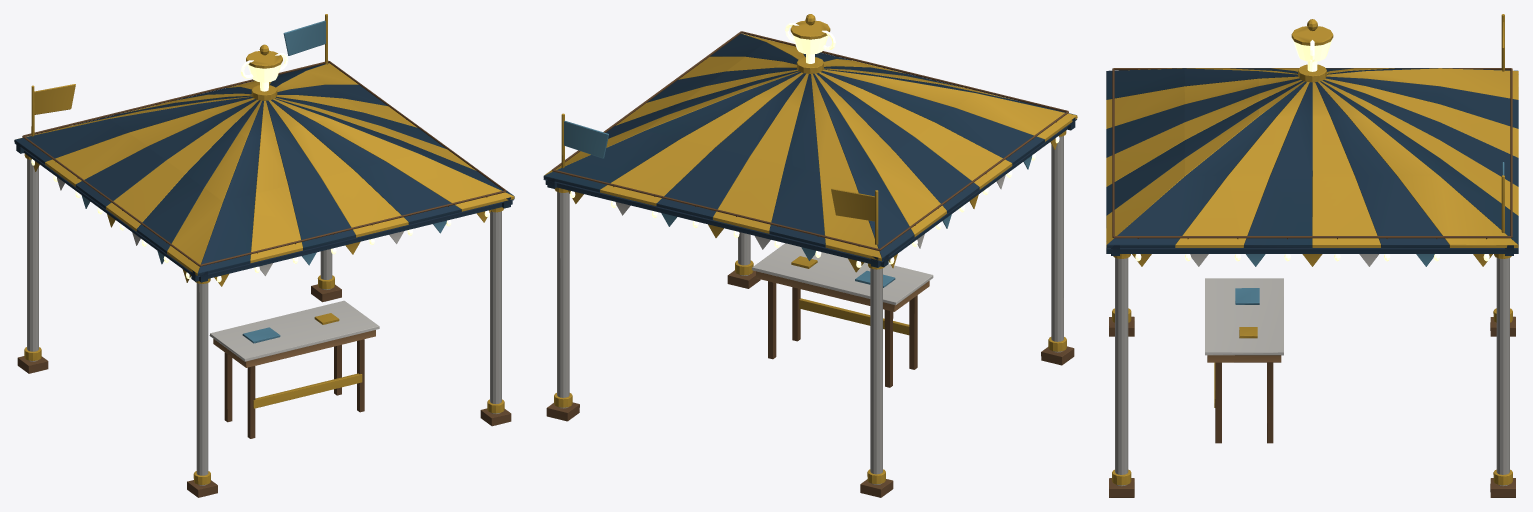
The model's file is contest_tent.glb.
3 views of the same model, side by side, from view 1: azimuth 30°, elevation 25°; view 2: azimuth 150°, elevation 25°; view 3: azimuth 270°, elevation 25° (orthographic). The views are drawn at different scales.
Parts seen in each view (by area): view 1: structure, flag_R_cloth, flag_L_cloth, canopy_liner; view 2: structure, flag_R_cloth, flag_L_cloth, canopy_liner; view 3: structure, canopy_liner.
Part boxes in pixels (box(x1,y1,x2,y2)): structure: box(14, 14, 514, 497); flag_R_cloth: box(283, 20, 325, 55); flag_L_cloth: box(34, 84, 75, 114); canopy_liner: box(14, 143, 514, 277); structure: box(543, 14, 1077, 497); flag_R_cloth: box(564, 121, 608, 158); flag_L_cloth: box(831, 188, 874, 221); canopy_liner: box(543, 119, 1076, 262); structure: box(1106, 14, 1518, 497); canopy_liner: box(1106, 82, 1518, 249).
Bounding box in the file's own units: 4 × 4.2 × 4.
